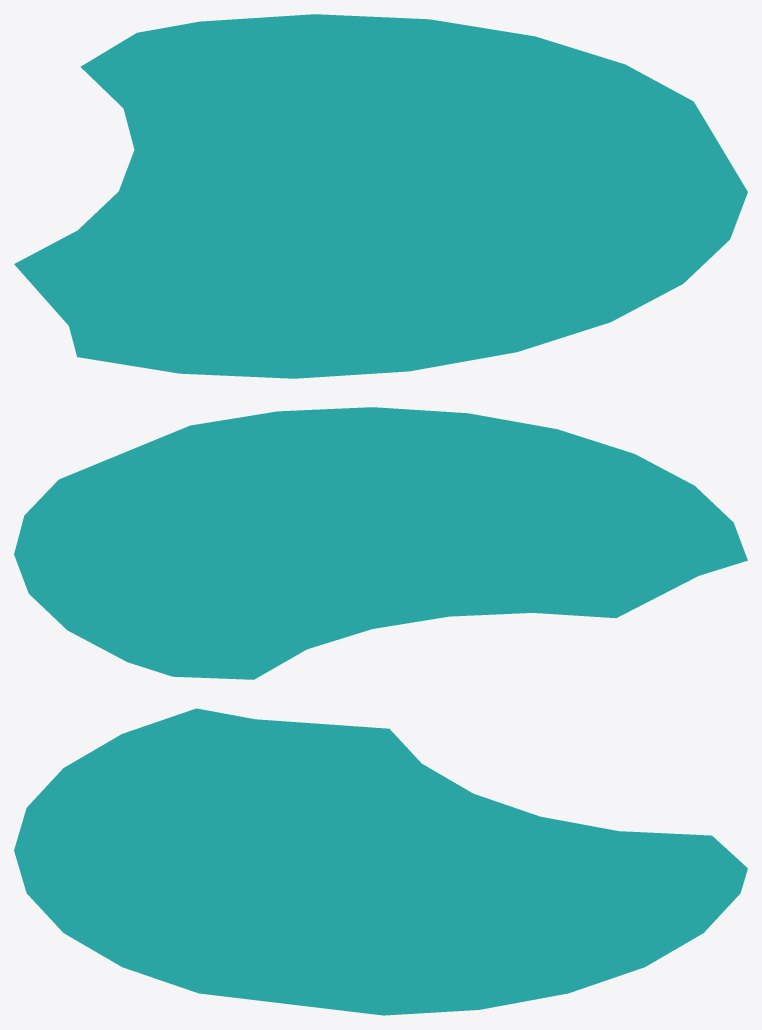
The model's file is grape_color_5.fbx.
3 renders of one model, top to bottom at view 1: azimuth 30°, elevation 25°; view 2: azimuth 150°, elevation 25°; view 3: azimuth 270°, elevation 25°, orthographic. The views are drawn at different scales.
Parts seen in each view (by area): view 1: grape_color_5; view 2: grape_color_5; view 3: grape_color_5.
Boxes of the visible parts, x1,y1,x2,y2 form: grape_color_5: (14, 14, 747, 378); grape_color_5: (14, 407, 747, 679); grape_color_5: (14, 708, 747, 1015).
Bounding box in the file's own units: 18.76 × 0 × 18.95.
